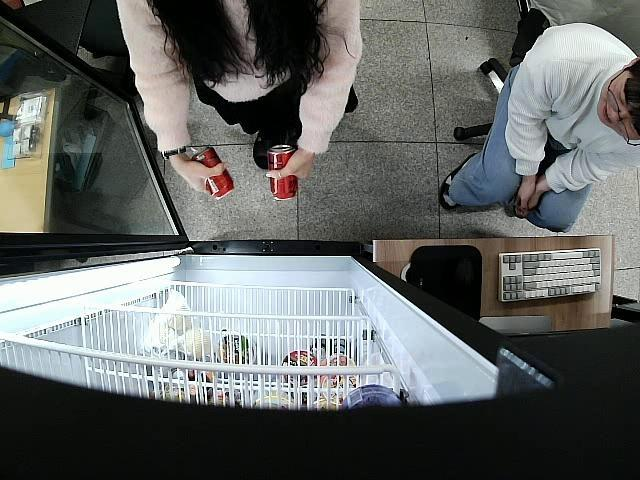11_cocaColaZero: (190, 147, 235, 201), (267, 144, 302, 202)
